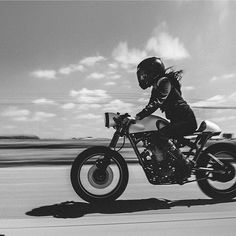helmet: (135, 53, 165, 87)
